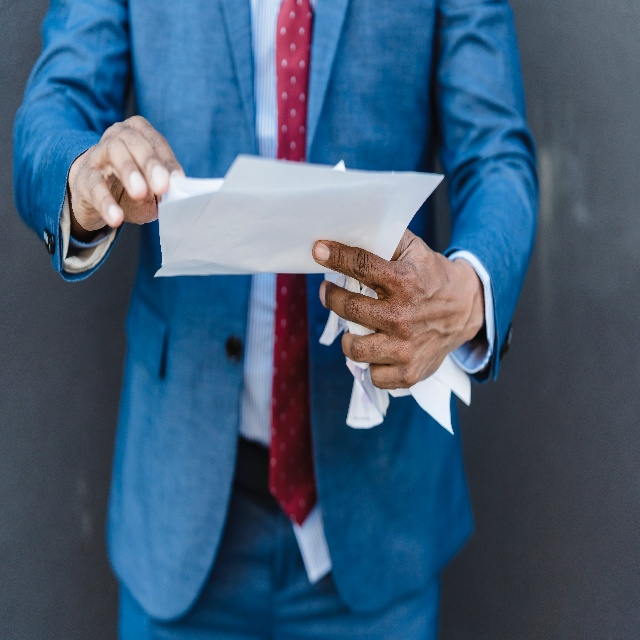Sin_guantes: (312, 225, 462, 389), (73, 112, 190, 234)
